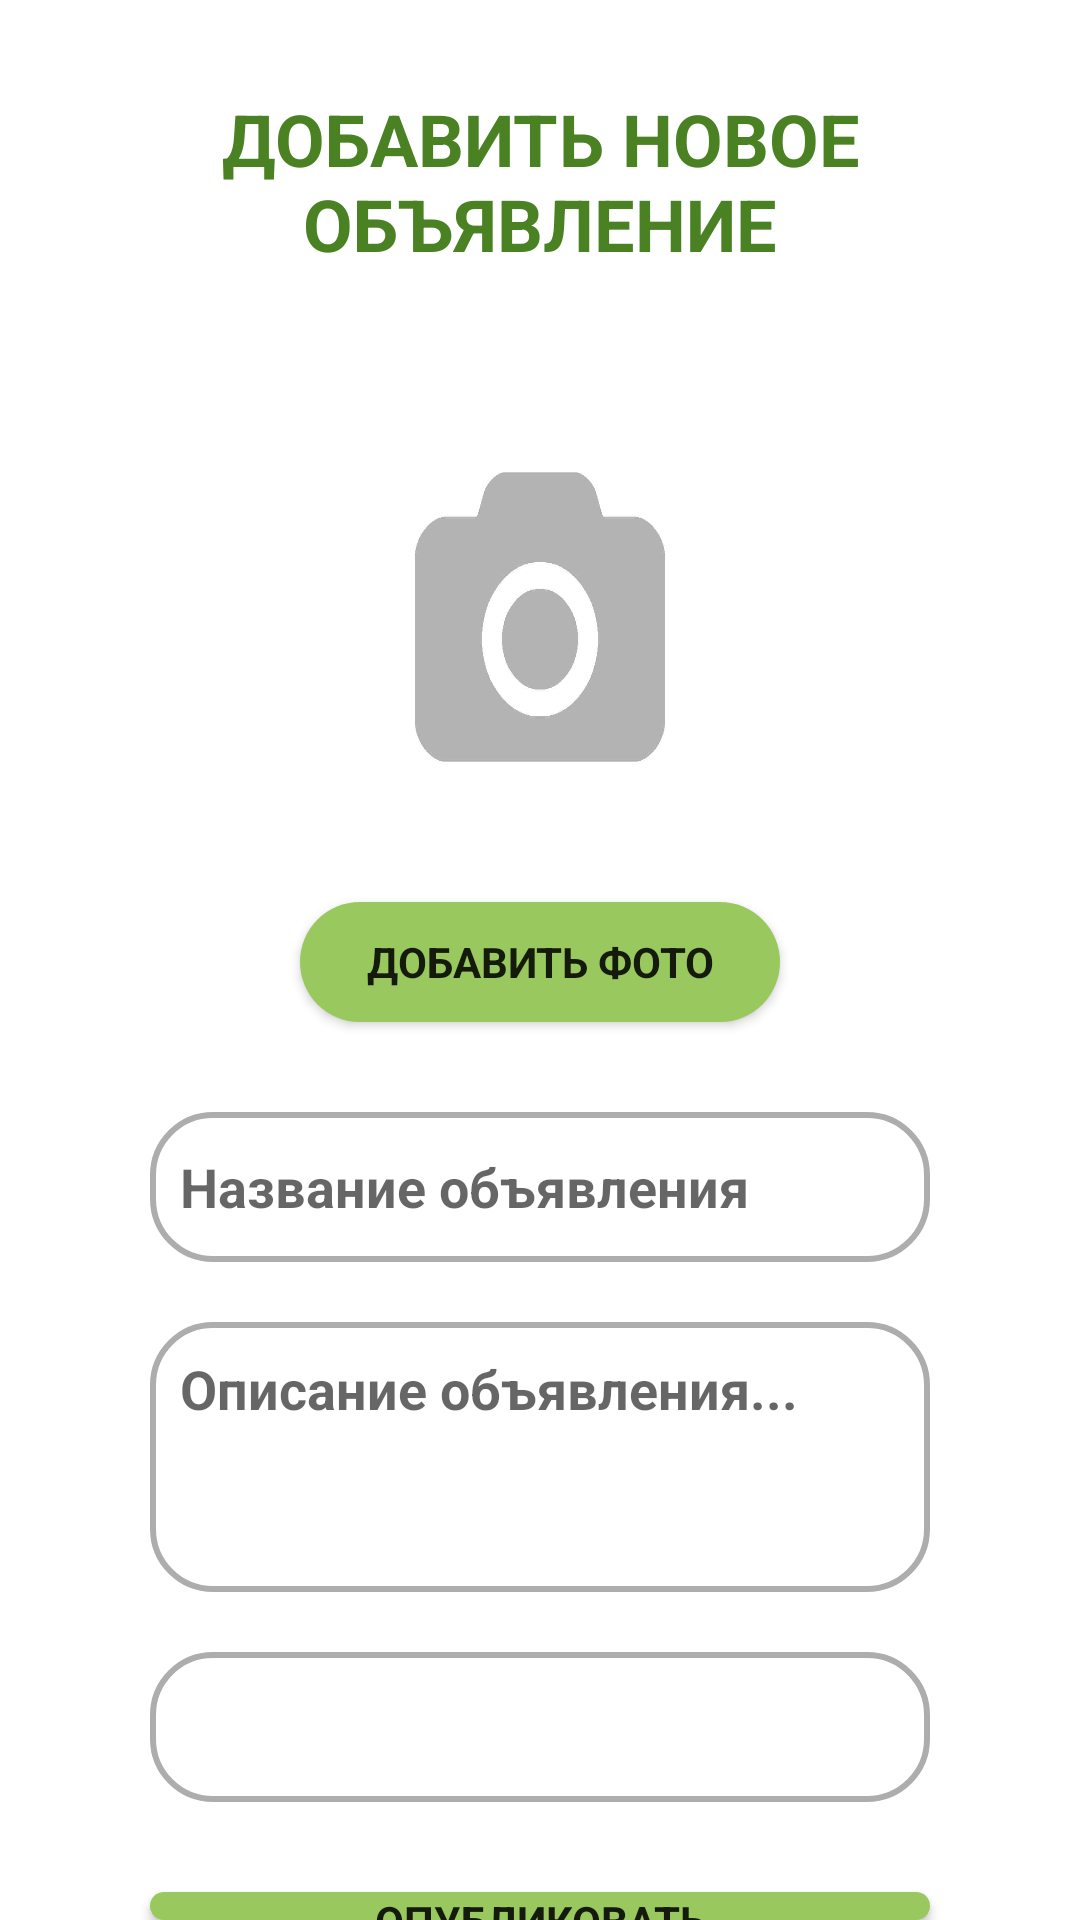

Point at icon controls on the screen. Image size 1080×1920, points as (x,y).
add photo: (540,617)
